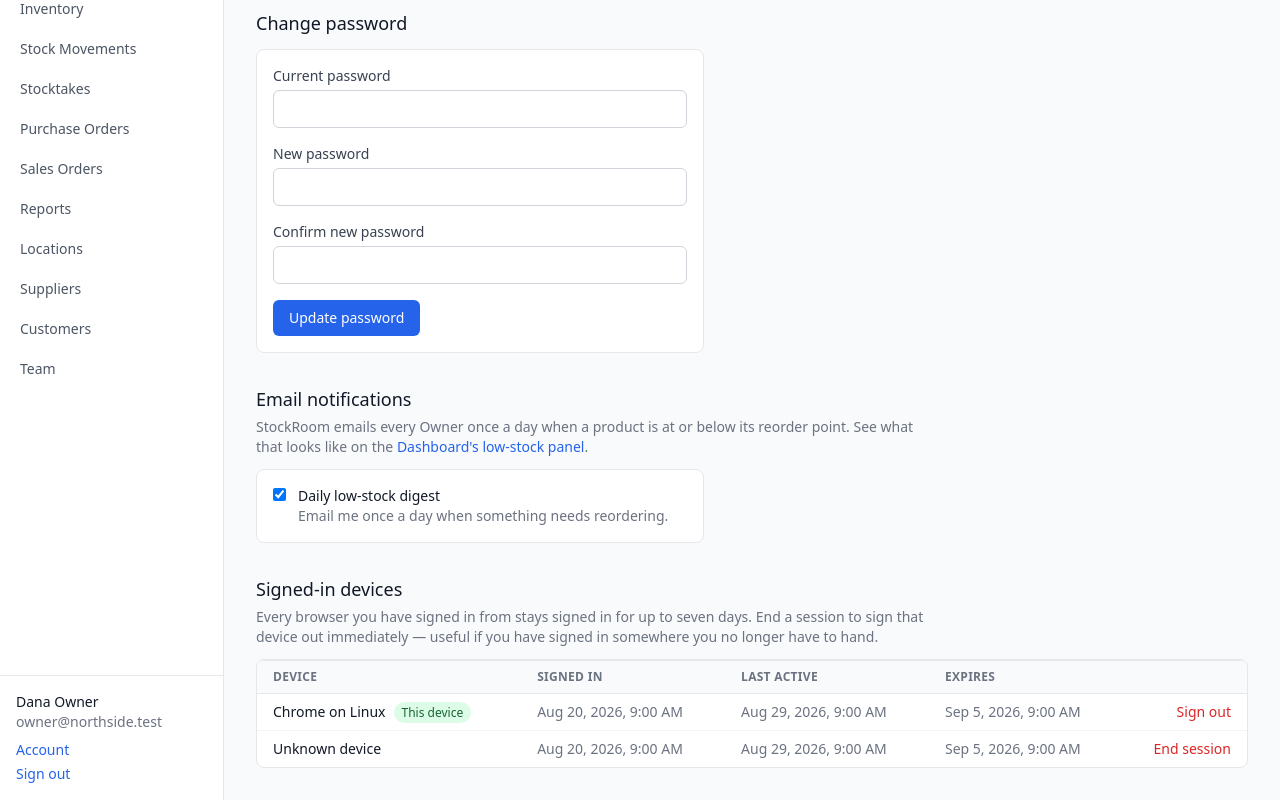
Test: AccountPage sessions › names the device and when it was last active in the confirmation
(page scrolled)
Expected: the text "Unknown device" is shown, [257,730,521,767]
Click the button "End session" at [1192, 749], box [1154,739,1231,759]
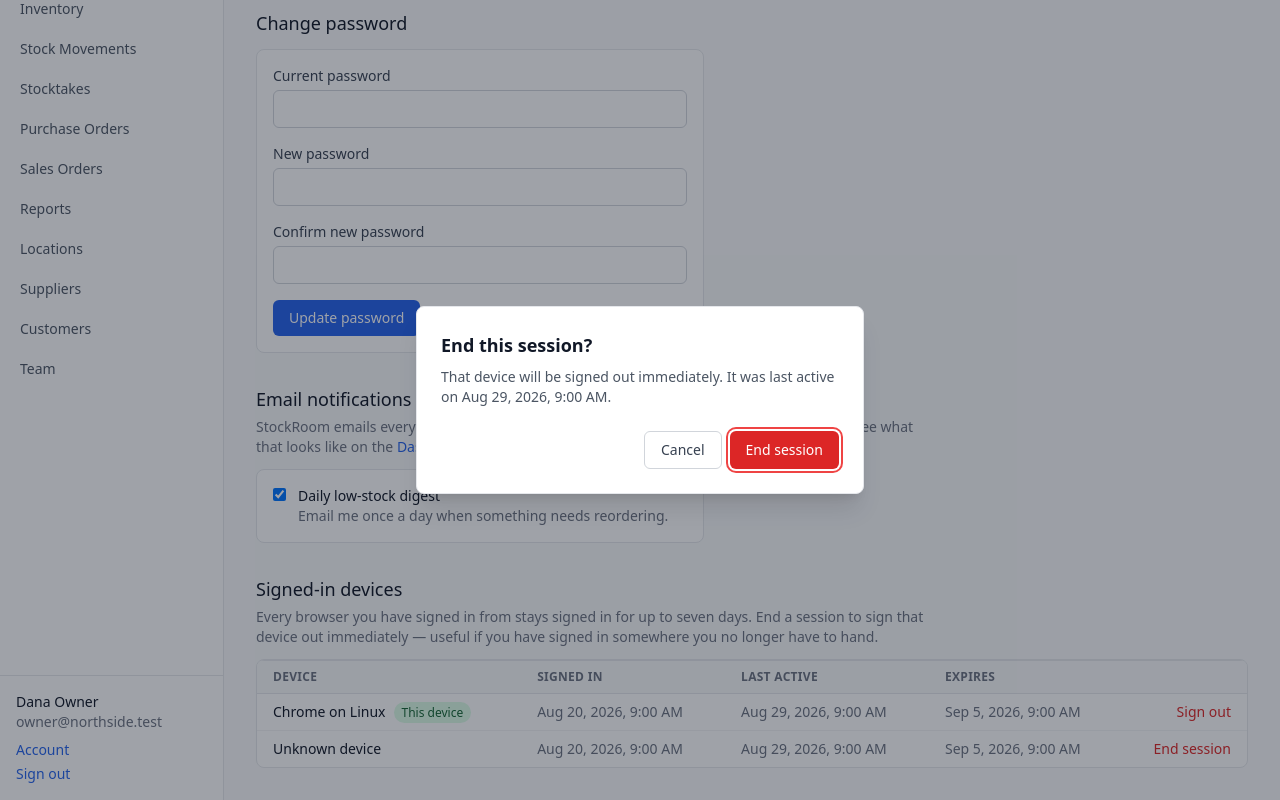
Now the heading "End this session?" is shown, box [441,333,592,357]
Now the text "last active on" is shown, box [441,367,834,406]
